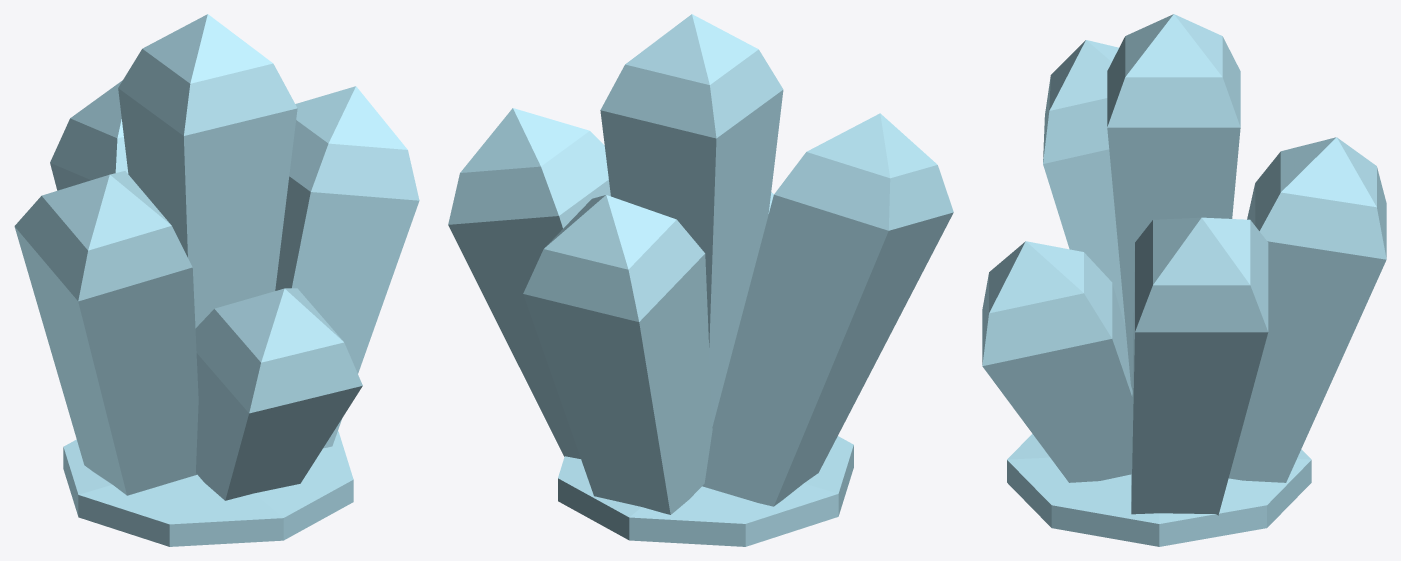
The model's file is CrystalBrick.fbx.
3 renders of one model, left to right at view 1: azimuth 30°, elevation 25°; view 2: azimuth 150°, elevation 25°; view 3: azimuth 270°, elevation 25°, orthographic. The views are drawn at different scales.
Parts seen in each view (by area): view 1: Cristales; view 2: Cristales; view 3: Cristales.
Part boxes in pixels (bbox=[...]): Cristales: bbox=[14, 14, 419, 546]; Cristales: bbox=[448, 14, 953, 546]; Cristales: bbox=[982, 14, 1386, 546].
Bounding box in the file's own units: 339 × 396 × 303.
